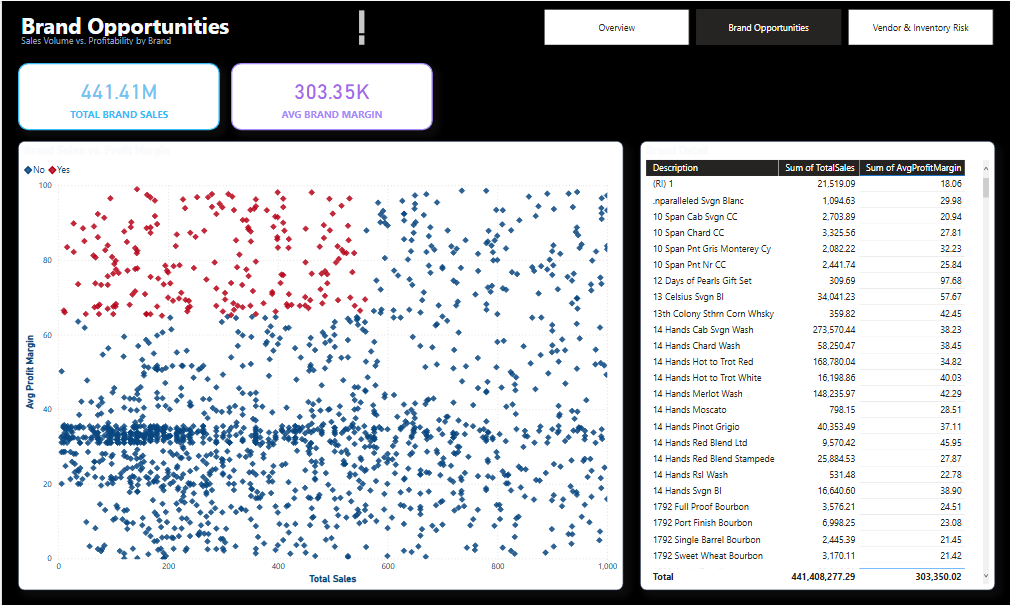

Layout of this report page (visuals, bound fields, positions):
{"tool":"powerbi","page":{"name":"Brand Opportunities","canvas":[1500,900],"ordinal":1},"visuals":[{"type":"basicShape","box":[24,76,1452,3],"z":0},{"type":"textbox","box":[24,9.3,520.5,48],"z":1000},{"type":"textbox","box":[24,46,520,24],"z":2000},{"type":"pageNavigator","box":[806,12,670,54],"z":3000},{"type":"card","fields":{"Values":["Sum(BrandPerformance.TotalSales)"]},"box":[24,92,300,100],"z":4000},{"type":"card","fields":{"Values":["Sum(BrandPerformance.AvgProfitMargin)"]},"box":[340,92,300,100],"z":5000},{"type":"scatterChart","title":"Brand Sales vs. Profit Margin","fields":{"X":["Sum(BrandPerformance.TotalSales)"],"Y":["Sum(BrandPerformance.AvgProfitMargin)"],"Series":["BrandPerformance.TargetBrand"],"Category":["BrandPerformance.Description"]},"box":[24,208,900,668],"z":6000},{"type":"table","title":"Brand Detail","fields":{"Values":["BrandPerformance.Description","Sum(BrandPerformance.TotalSales)","Sum(BrandPerformance.AvgProfitMargin)"]},"box":[948,208,528,668],"z":7000}]}

Visuals, with their boxes in screenshot pixels (x1, y1, x2, y2), scaled from the page's 1500x900 canvas onto the 1010x605 screenshot:
basicShape: {"left": 16, "top": 51, "right": 994, "bottom": 53}
textbox: {"left": 16, "top": 6, "right": 367, "bottom": 39}
textbox: {"left": 16, "top": 31, "right": 366, "bottom": 47}
pageNavigator: {"left": 543, "top": 8, "right": 994, "bottom": 44}
card - Sum(BrandPerformance.TotalSales): {"left": 16, "top": 62, "right": 218, "bottom": 129}
card - Sum(BrandPerformance.AvgProfitMargin): {"left": 229, "top": 62, "right": 431, "bottom": 129}
"Brand Sales vs. Profit Margin" scatterChart: {"left": 16, "top": 140, "right": 622, "bottom": 589}
"Brand Detail" table: {"left": 638, "top": 140, "right": 994, "bottom": 589}
